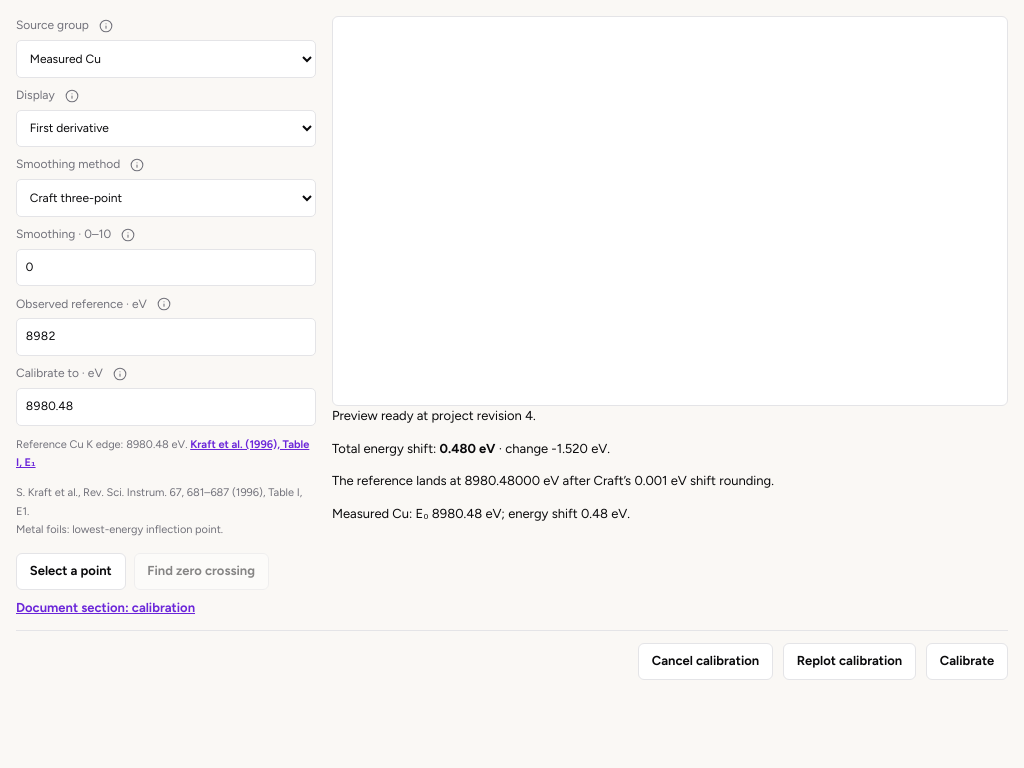
Test: zero search uses the reviewed revision, updates the field, then replots before allowing save
This screenshot has width=1024, height=768.
Expected: the button "Calibrate" is enabled, [926,643,1008,680]
Select "Second derivative" in the dropdown named "Calibration display": {"x": 166, "y": 128} [16,110,316,147]
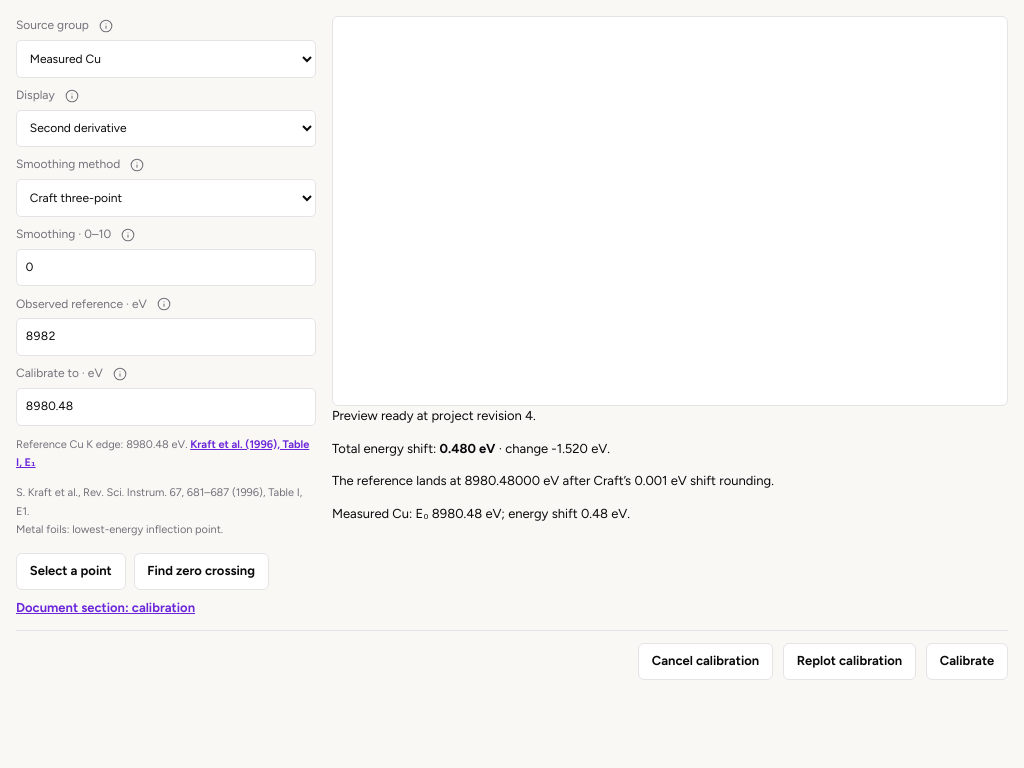
Expected: the button "Calibrate" is enabled, [926,643,1008,680]
Click the button "Find zero crossing": {"x": 201, "y": 572} [134,553,269,590]
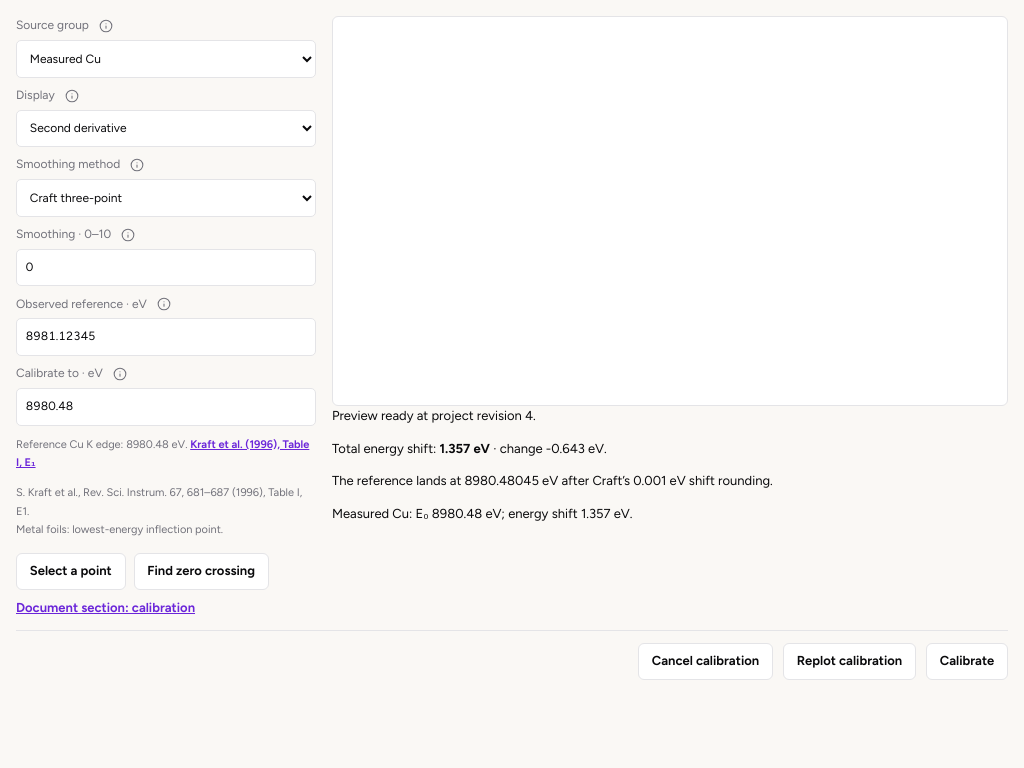
Expected: the button "Calibrate" is enabled, [926,643,1008,680]
Expected: the number field labelled "Observed reference · eV" holds "8981.12345", [16,318,316,356]
